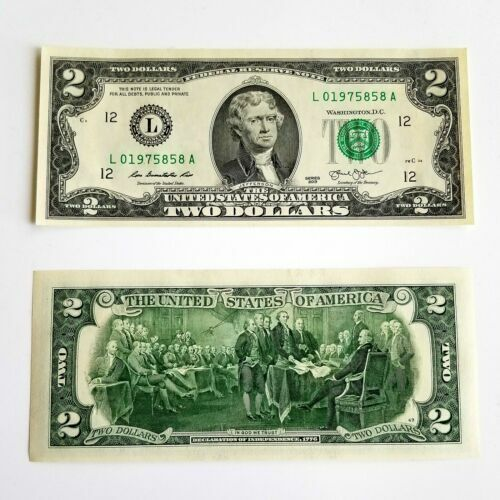Nota desconhecida: (26, 262, 483, 468), (26, 34, 480, 233)
